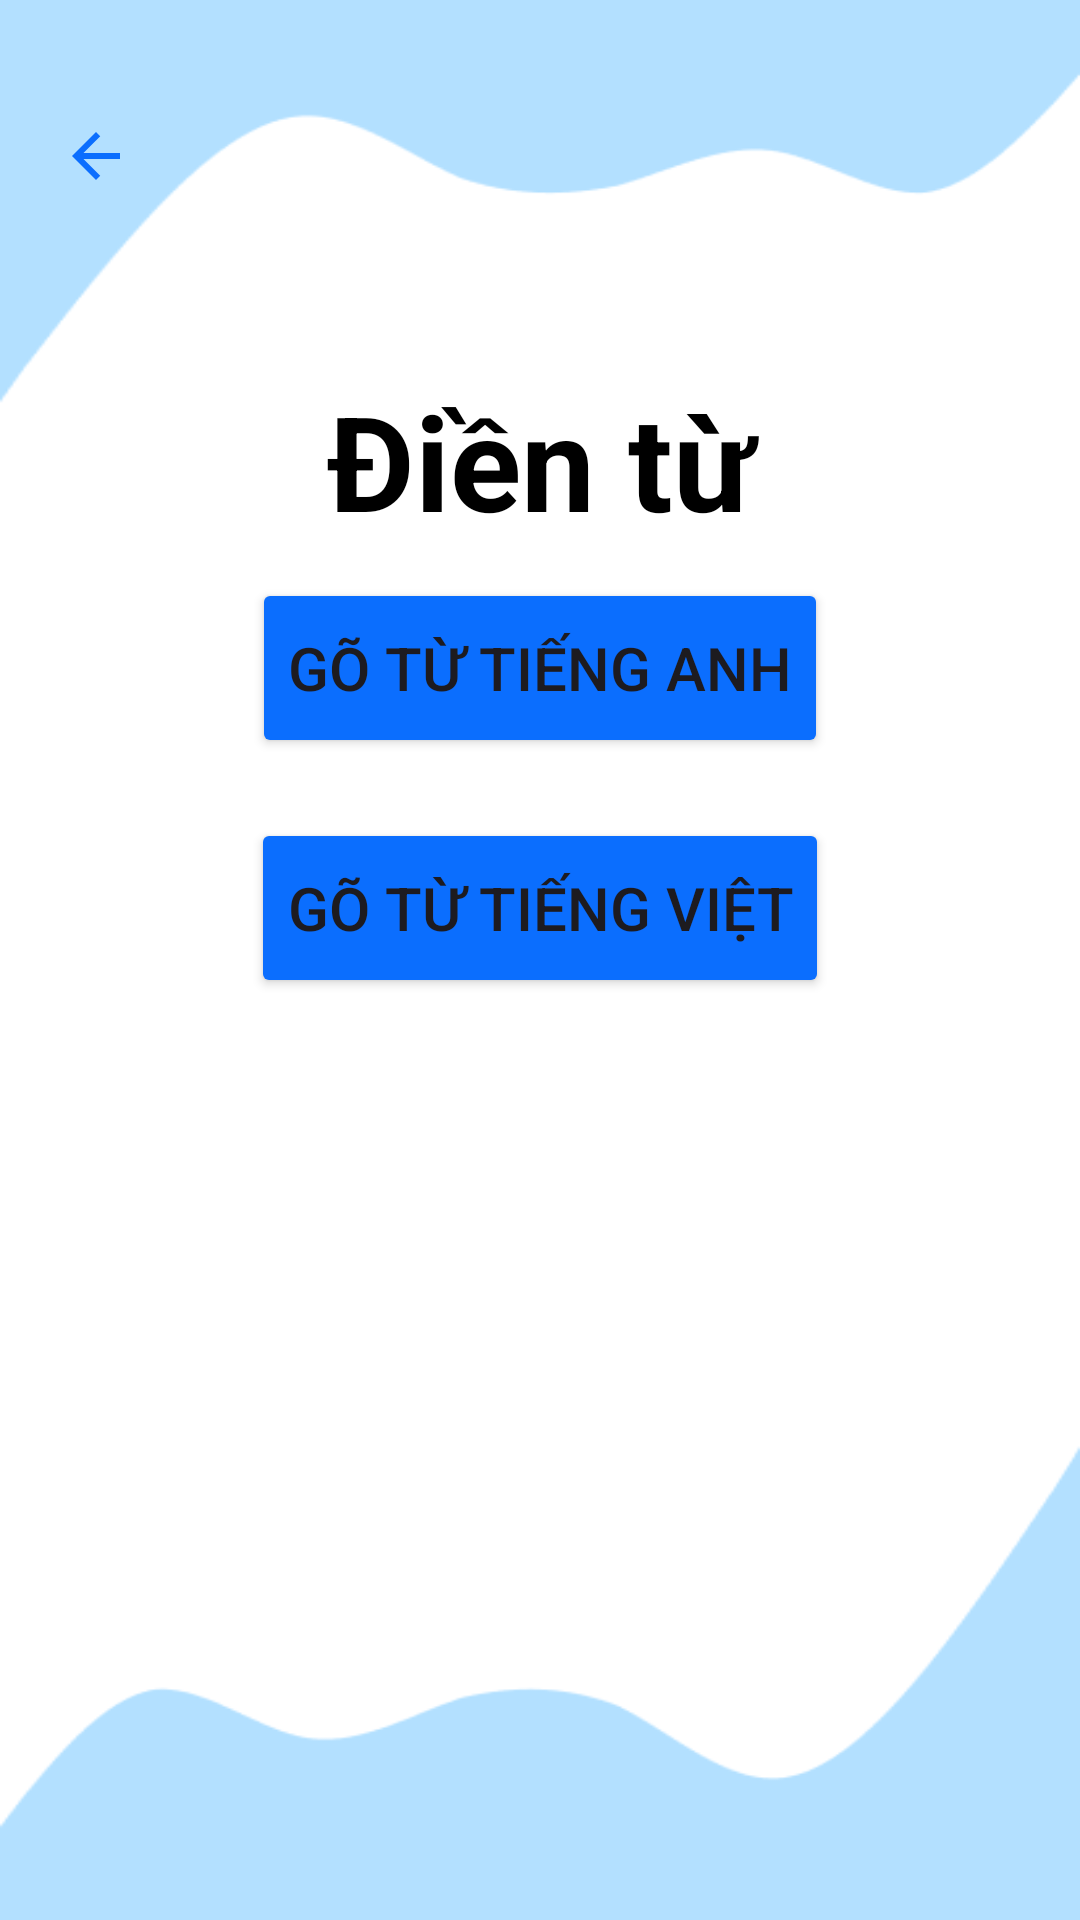

Where icons sit on this 1080 × 1920 app screen, as bbox=[x1, y1, x2, y2]:
arrow back: bbox=[72, 132, 120, 180]
